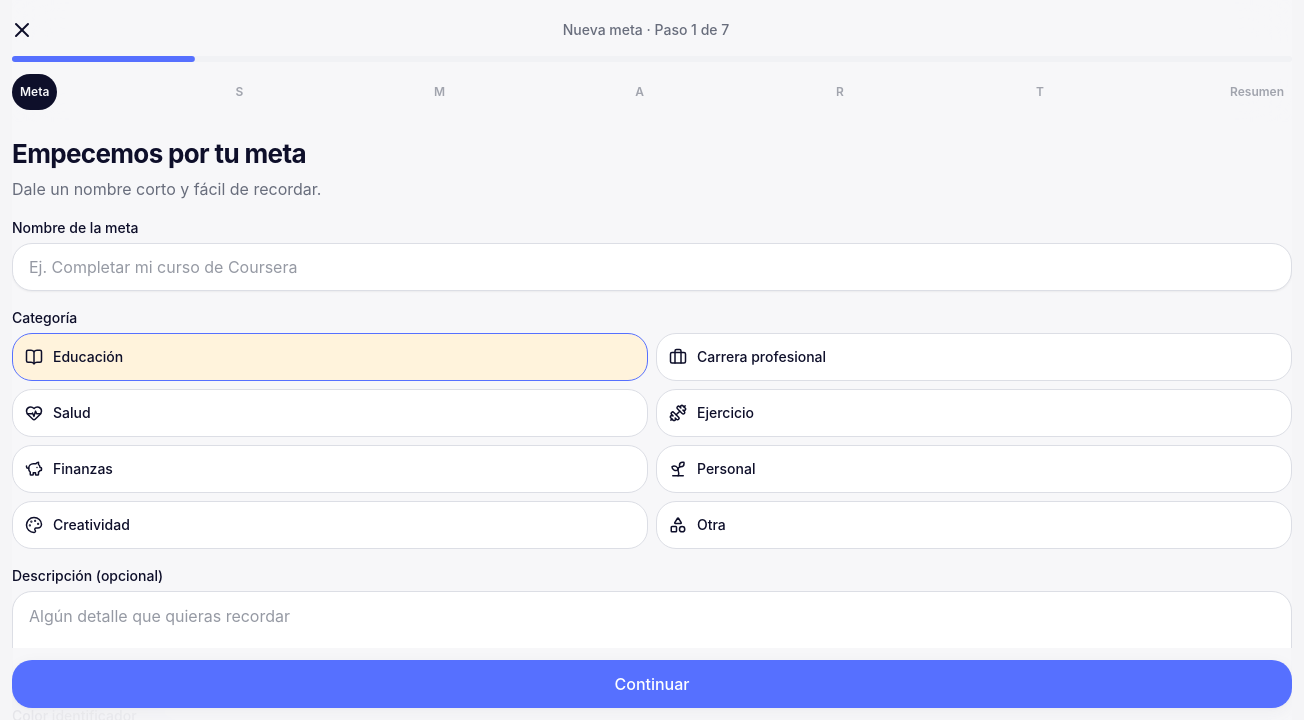
asistente de meta SMART › no avanza sin nombre y muestra el error en español
Click the button "Continuar": (652,684) [12, 660, 1292, 708]
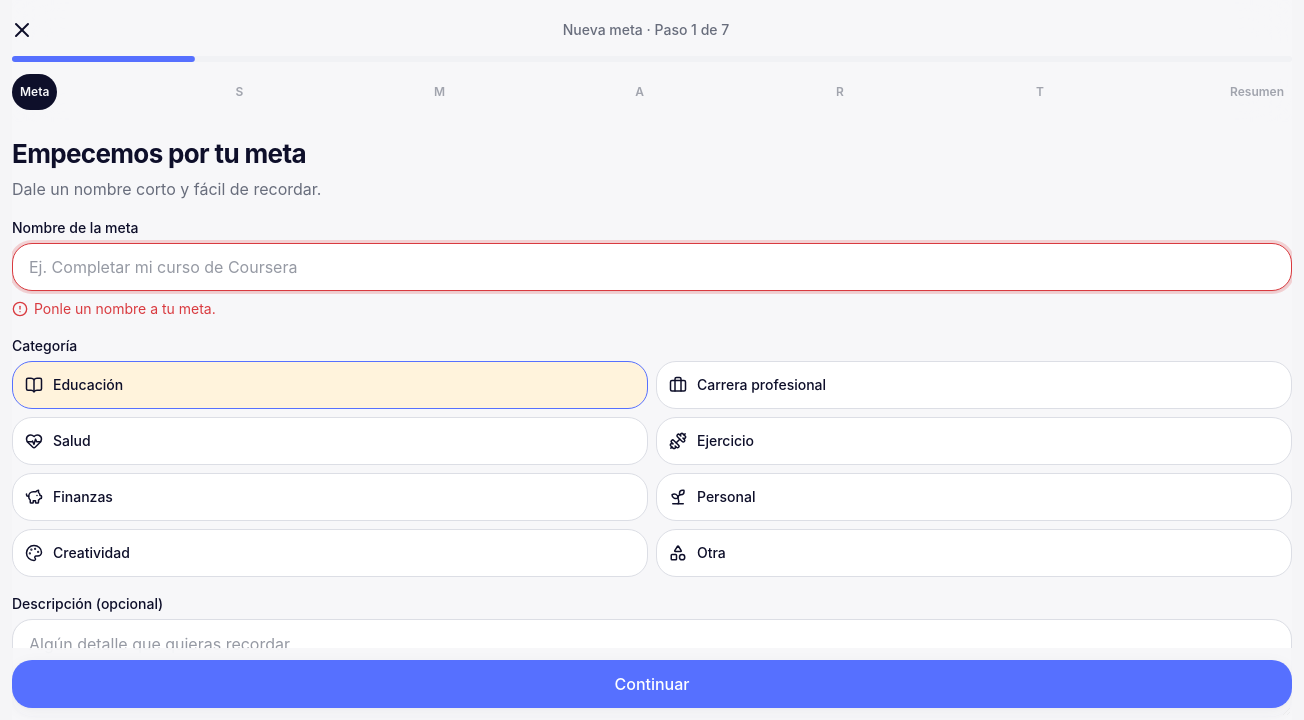
Expected: the text "Nueva meta · Paso 1 de 7" is shown, [563, 20, 729, 40]
Result: the text "Ponle un nombre a tu meta." is shown at [12, 300, 216, 316]
